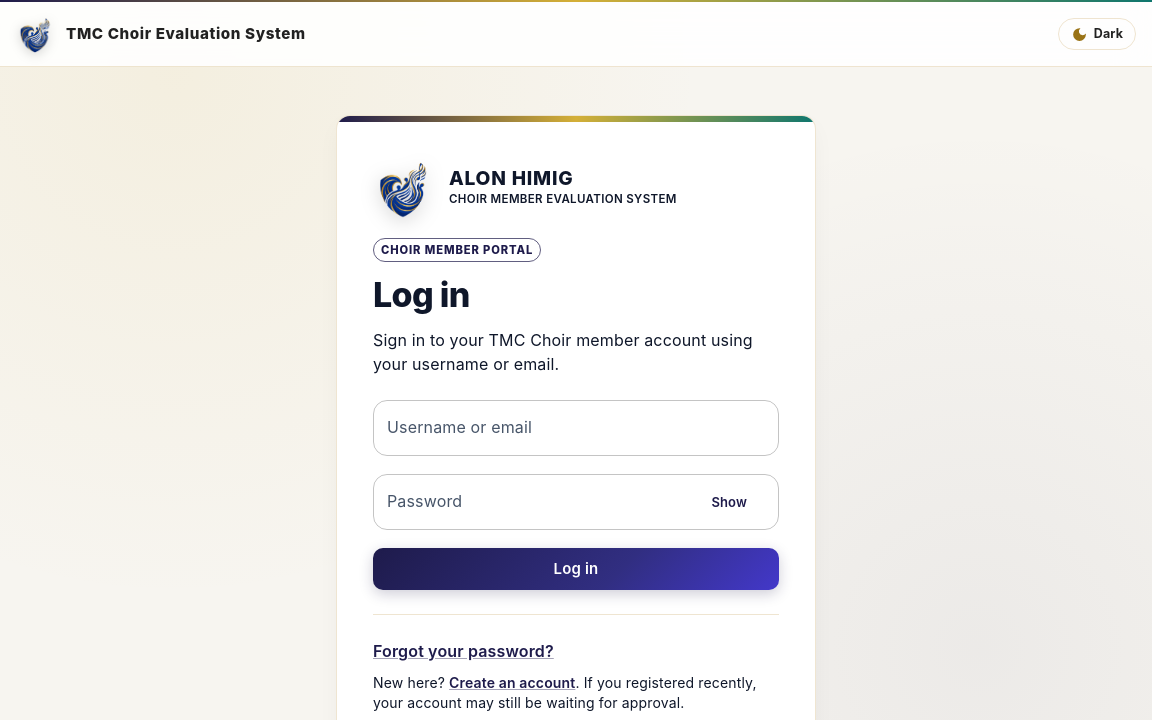
LoginPage › validates required fields on the client
Click the button "Log in".
click(576, 569)  # box x1=373 y1=548 x2=779 y2=590
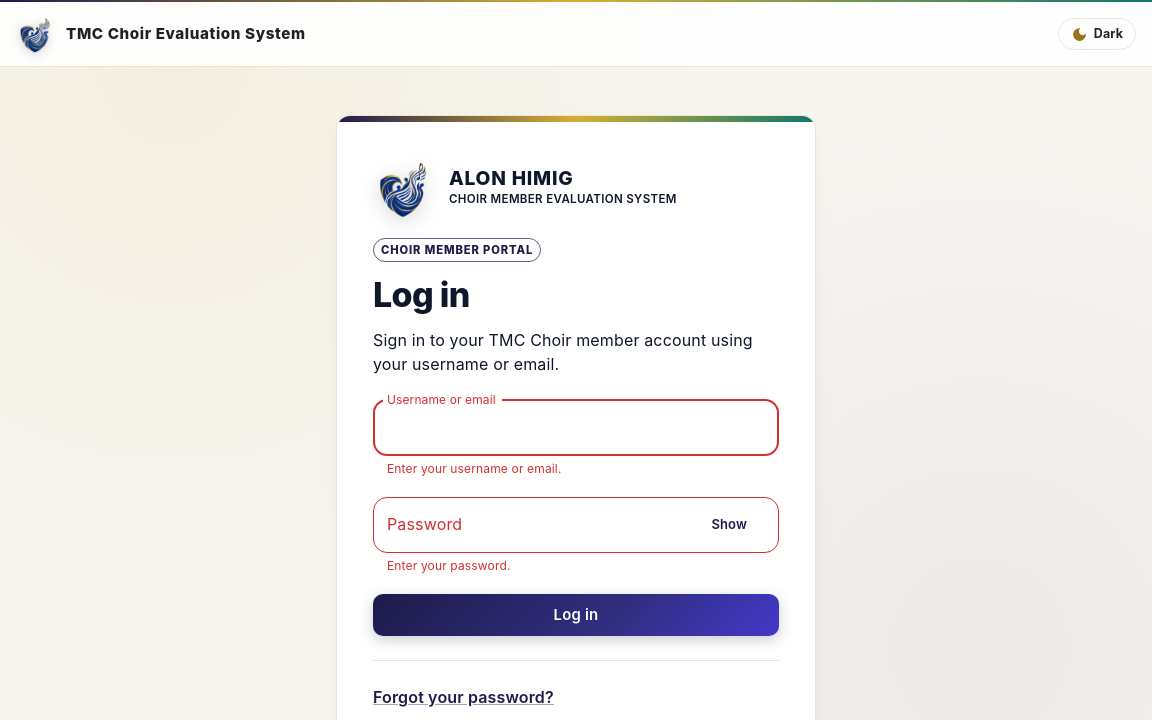
Expected: the text "Enter your username or email." is shown, x1=387 y1=461 x2=562 y2=476
Expected: the text "Enter your password." is shown, x1=387 y1=558 x2=510 y2=573
